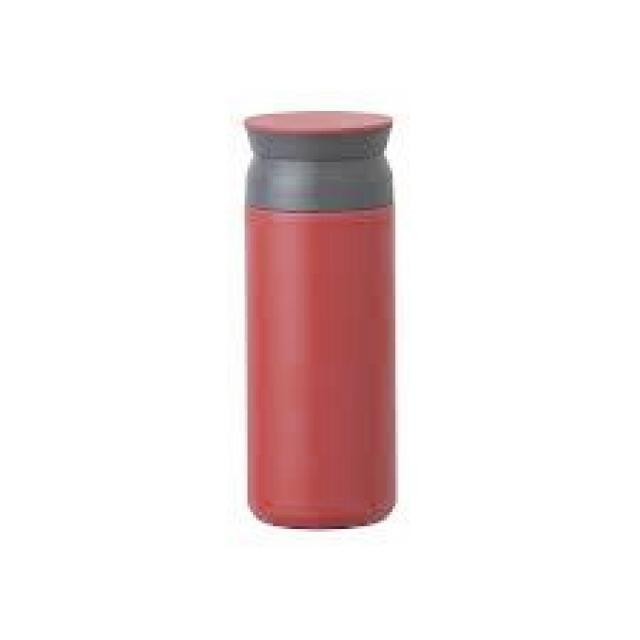bottle: (242, 110, 401, 534)
